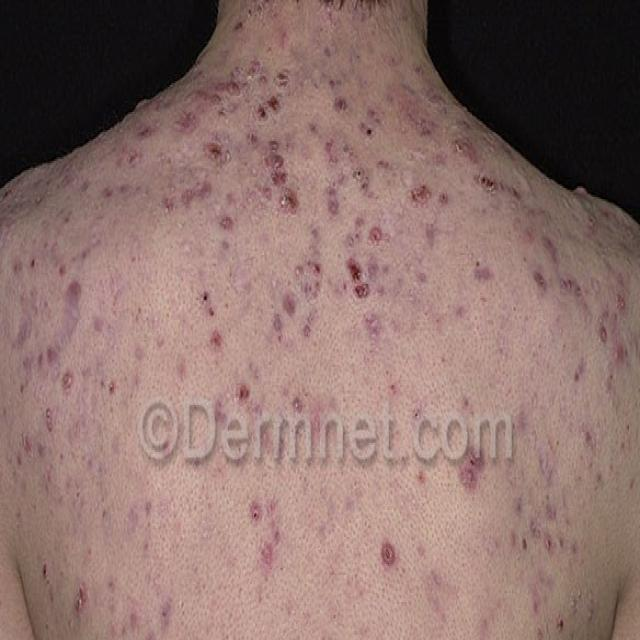Acne: (61, 341, 544, 640), (133, 108, 495, 369), (0, 206, 127, 421), (593, 239, 640, 519), (519, 188, 579, 332)
